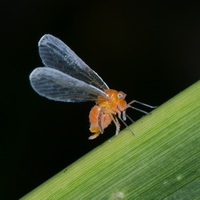insect: (29, 34, 154, 139)
